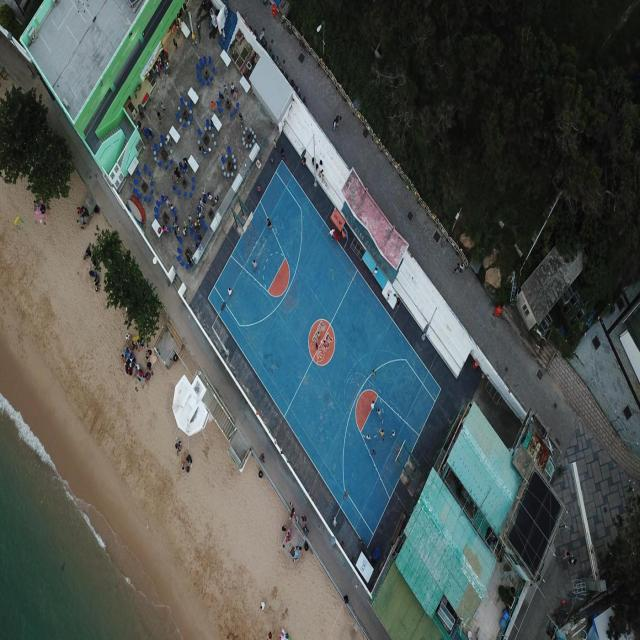tree: (0, 81, 75, 212), (90, 223, 166, 349), (600, 484, 640, 638)
